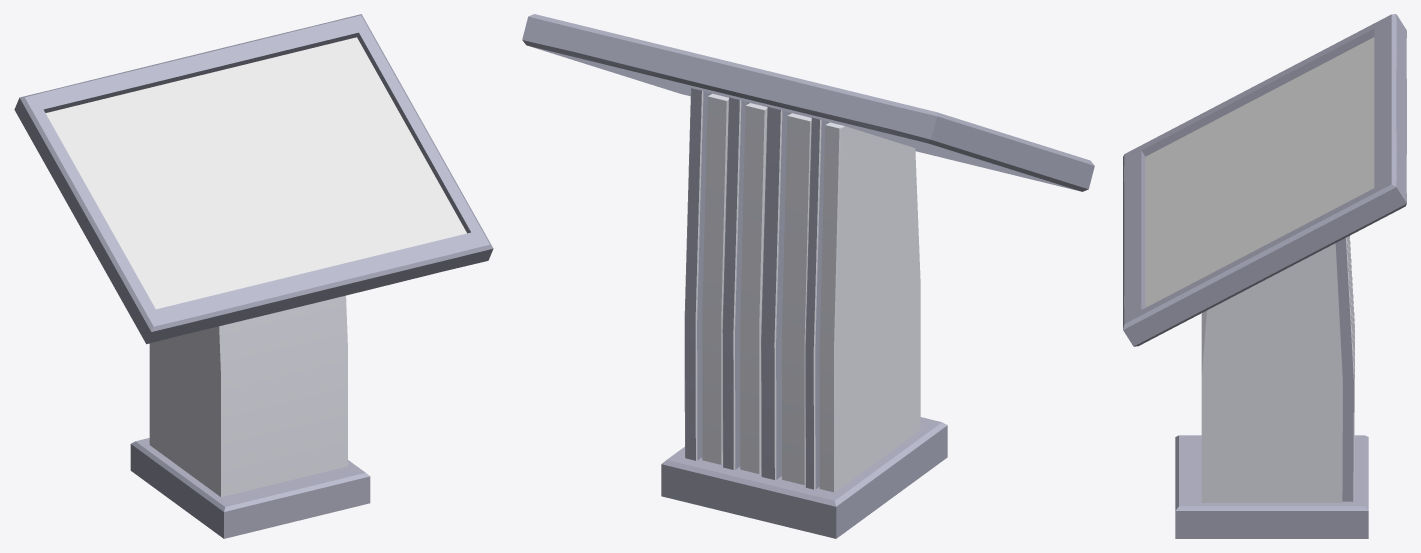
Rendered from PanelScreen.fbx.
3 renders of one model, left to right at view 1: azimuth 30°, elevation 25°; view 2: azimuth 150°, elevation 25°; view 3: azimuth 270°, elevation 25°, orthographic. The views are drawn at different scales.
Parts seen in each view (by area): view 1: PanelScreen; view 2: PanelScreen; view 3: PanelScreen.
Part boxes in pixels (x1,y1,x2,y2): PanelScreen: [14, 14, 493, 538]; PanelScreen: [522, 14, 1094, 538]; PanelScreen: [1123, 14, 1406, 538].
Bounding box in the file's own units: 4.66 × 5.06 × 3.23.
